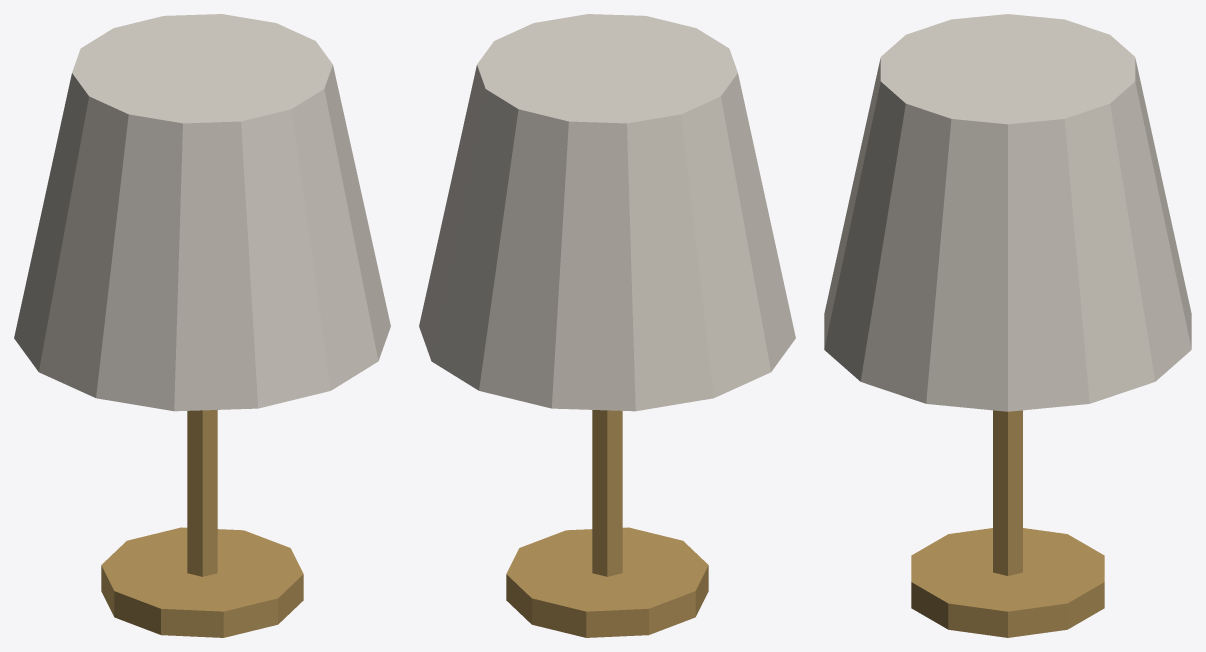
Rendered from abajur.glb.
3 views of the same model, side by side, from view 1: azimuth 30°, elevation 25°; view 2: azimuth 150°, elevation 25°; view 3: azimuth 270°, elevation 25° (orthographic).
Visible parts, largest first — view 1: abajur; view 2: abajur; view 3: abajur.
Boxes of the visible parts, x1,y1,x2,y2 form: abajur: [14, 14, 390, 637]; abajur: [419, 14, 795, 637]; abajur: [824, 14, 1191, 637].
Size of the model in its own units: 0.26 by 0.4 by 0.2534.
